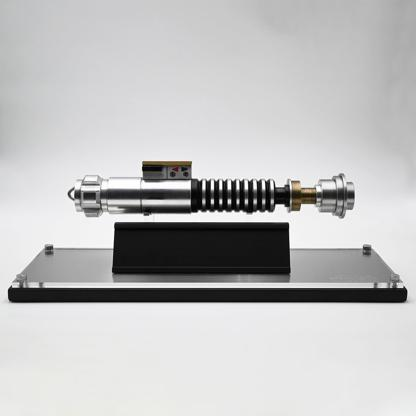lightsaber: (67, 162, 361, 222)
